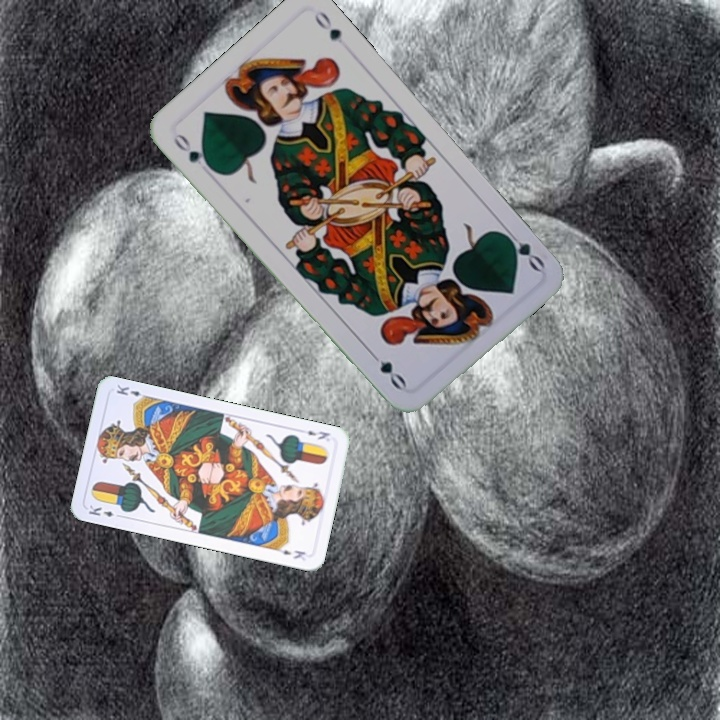EK: (85, 501, 125, 520), (303, 426, 332, 442)
GO: (497, 224, 547, 274), (169, 129, 217, 174)
